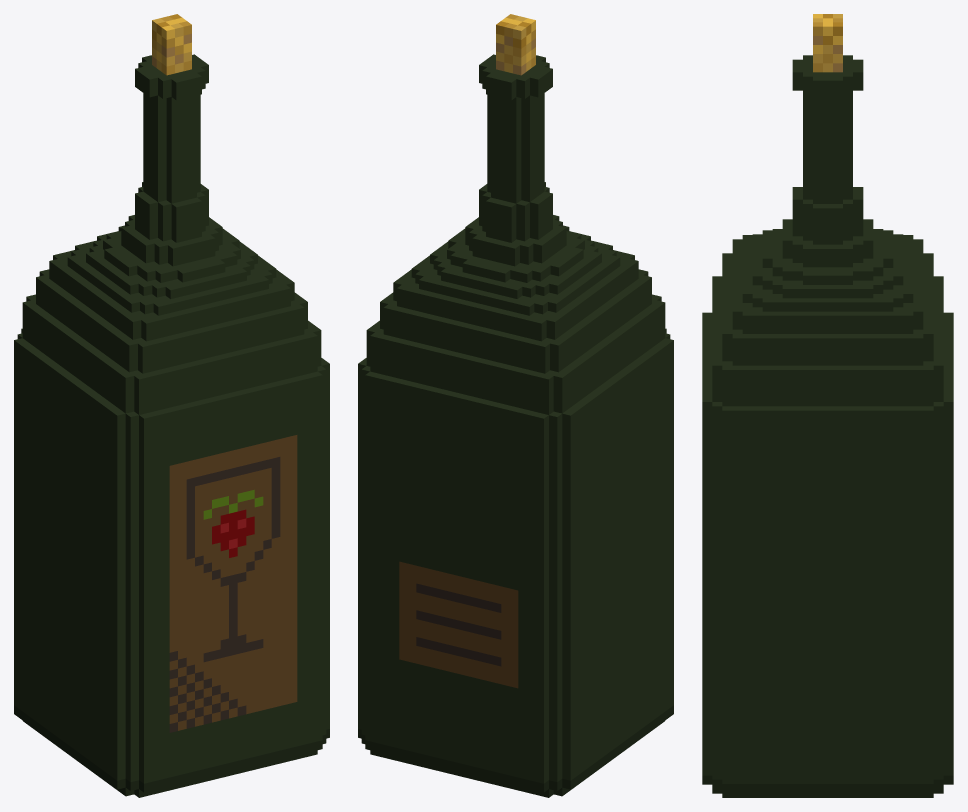
File: winebottle.obj
3 views of the same model, side by side, from view 1: azimuth 30°, elevation 25°; view 2: azimuth 150°, elevation 25°; view 3: azimuth 270°, elevation 25° (orthographic). The views are drawn at different scales.
Visible parts, largest first — view 1: winebottle; view 2: winebottle; view 3: winebottle.
Part boxes in pixels (left/top/right/bottom): winebottle: left=14, top=14, right=329, bottom=797; winebottle: left=358, top=14, right=673, bottom=797; winebottle: left=702, top=14, right=953, bottom=797.
Size of the model in its own units: 25 by 80 by 25.
Materials: 1 (1 with a texture image).
